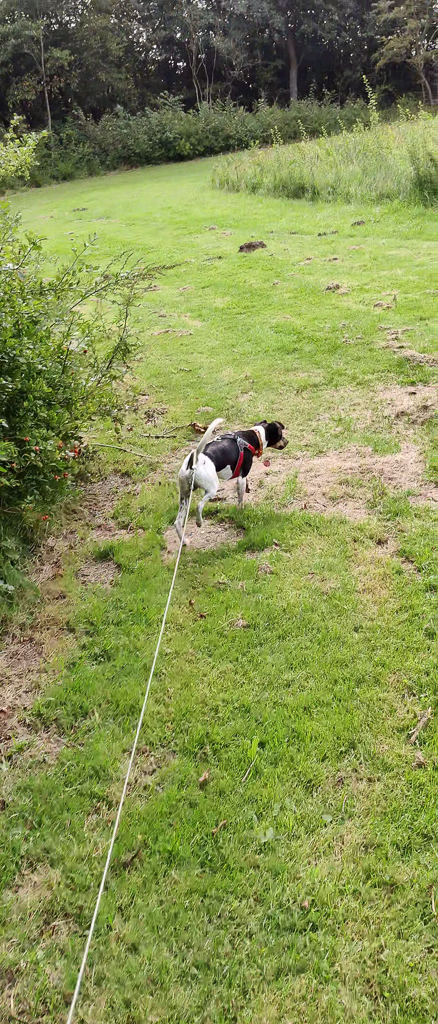Dog: (165, 407, 296, 552)
